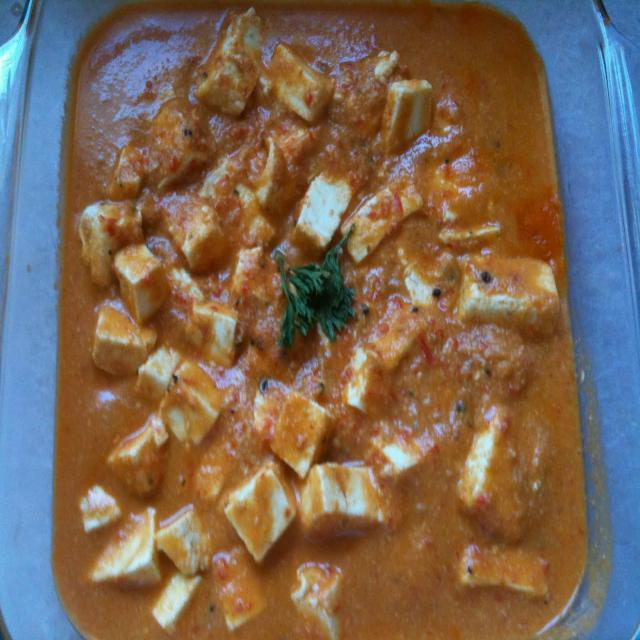ShahiPaneer: (69, 10, 585, 640)
